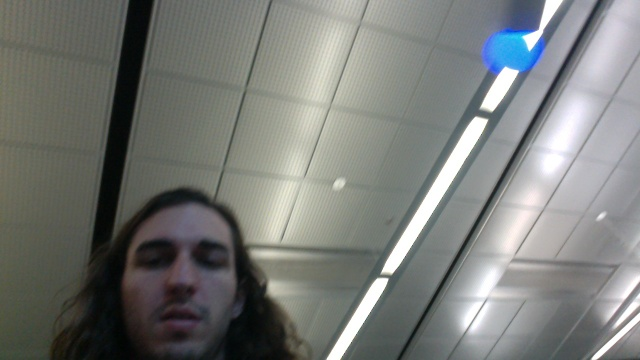wand: (488, 33, 539, 74)
